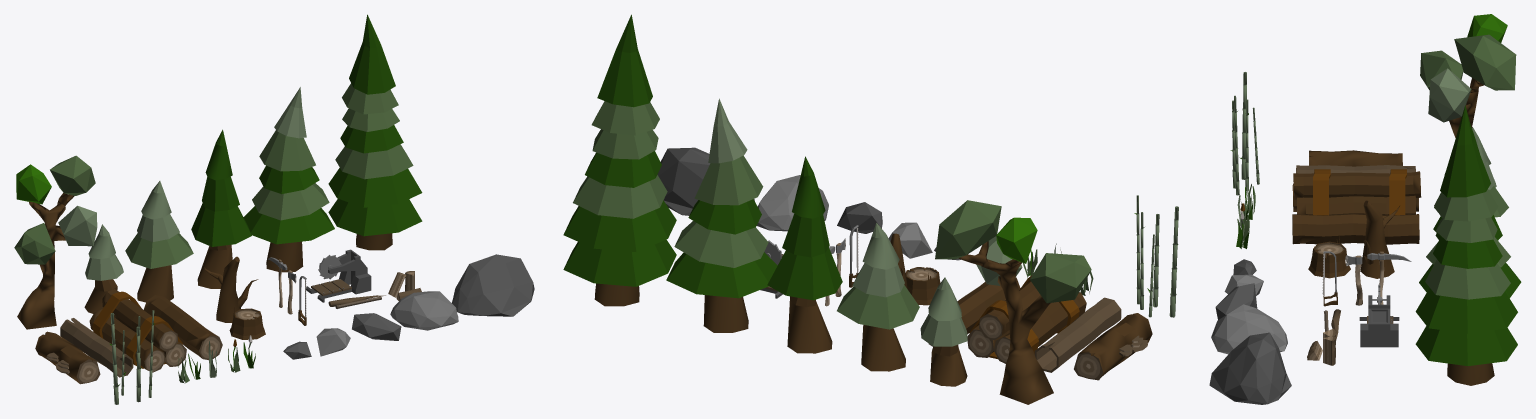
Rendered from AssetCollection_LittleNature.fbx.
3 views of the same model, side by side, from view 1: azimuth 30°, elevation 25°; view 2: azimuth 150°, elevation 25°; view 3: azimuth 270°, elevation 25° (orthographic). The views are drawn at different scales.
Visible parts, largest first — view 1: ACLN_Tree_6, ACLN_Tree_5, ACLN_Tree_1, ACLN_Tree_4, ACLN_Tree_3, ACLN_LogBundle, ACLN_Rock_5, ACLN_Log_3, ACLN_Rock_4, ACLN_Machine, ACLN_Tree_2, ACLN_Log_1 (+5 smaller); view 2: ACLN_Tree_6, ACLN_Tree_5, ACLN_Tree_1, ACLN_Tree_4, ACLN_Tree_3, ACLN_LogBundle, ACLN_Tree_2, ACLN_Log_1, ACLN_Log_2, ACLN_Rock_5, ACLN_Rock_4, ACLN_Log_3 (+4 smaller); view 3: ACLN_Tree_6, ACLN_Tree_1, ACLN_LogBundle, ACLN_Rock_5, ACLN_Log_3, ACLN_Rock_4, ACLN_Machine, ACLN_DeadTree, ACLN_Log_1, ACLN_Stump, ACLN_Tree_5, ACLN_Log_2 (+12 smaller).
Part boxes in pixels (x1=…): ACLN_Tree_6: x1=328, y1=14, x2=422, y2=250; ACLN_Tree_5: x1=243, y1=87, x2=334, y2=272; ACLN_Tree_1: x1=14, y1=155, x2=97, y2=329; ACLN_Tree_4: x1=191, y1=129, x2=251, y2=288; ACLN_Tree_3: x1=125, y1=181, x2=193, y2=302; ACLN_LogBundle: x1=89, y1=289, x2=186, y2=372; ACLN_Rock_5: x1=452, y1=254, x2=534, y2=316; ACLN_Log_3: x1=143, y1=295, x2=222, y2=360; ACLN_Rock_4: x1=390, y1=291, x2=458, y2=330; ACLN_Machine: x1=306, y1=249, x2=371, y2=302; ACLN_Tree_2: x1=84, y1=224, x2=123, y2=313; ACLN_Log_1: x1=35, y1=331, x2=100, y2=384; ACLN_Tree_6: x1=563, y1=14, x2=676, y2=306; ACLN_Tree_5: x1=666, y1=98, x2=777, y2=332; ACLN_Tree_1: x1=935, y1=200, x2=1091, y2=404; ACLN_Tree_4: x1=767, y1=156, x2=842, y2=353; ACLN_Tree_3: x1=837, y1=223, x2=919, y2=371; ACLN_LogBundle: x1=967, y1=275, x2=1086, y2=363; ACLN_Tree_2: x1=920, y1=277, x2=967, y2=386; ACLN_Log_1: x1=1074, y1=313, x2=1152, y2=380; ACLN_Log_2: x1=1034, y1=297, x2=1121, y2=372; ACLN_Rock_5: x1=657, y1=147, x2=754, y2=215; ACLN_Rock_4: x1=756, y1=175, x2=828, y2=231; ACLN_Log_3: x1=928, y1=277, x2=1020, y2=346; ACLN_Tree_6: x1=1415, y1=105, x2=1517, y2=385; ACLN_Tree_1: x1=1420, y1=14, x2=1516, y2=137; ACLN_LogBundle: x1=1292, y1=169, x2=1421, y2=215; ACLN_Rock_5: x1=1209, y1=332, x2=1291, y2=404; ACLN_Log_3: x1=1292, y1=214, x2=1419, y2=244; ACLN_Rock_4: x1=1211, y1=304, x2=1287, y2=354; ACLN_Machine: x1=1359, y1=284, x2=1399, y2=347; ACLN_DeadTree: x1=1360, y1=200, x2=1399, y2=278; ACLN_Log_1: x1=1309, y1=150, x2=1402, y2=166; ACLN_Stump: x1=1308, y1=236, x2=1350, y2=278; ACLN_Tree_5: x1=1419, y1=173, x2=1521, y2=298; ACLN_Log_2: x1=1296, y1=165, x2=1415, y2=173.
Bounding box in the file's own units: 651 × 336 × 352.
